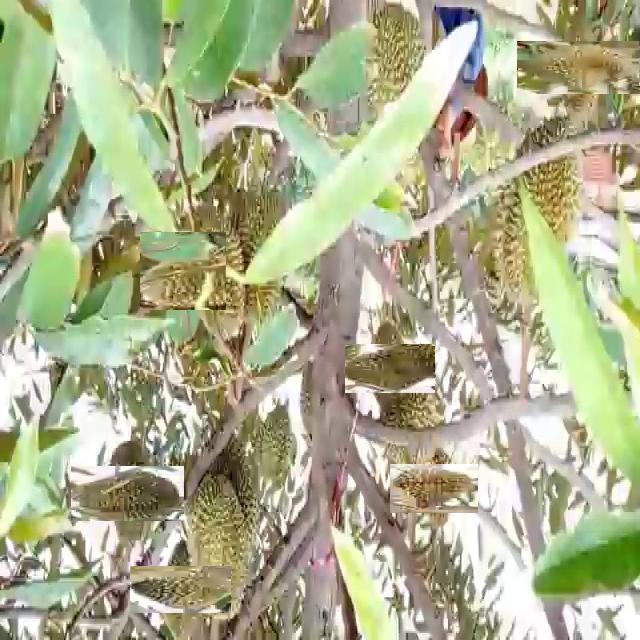durian: (492, 123, 584, 313), (155, 216, 263, 324), (225, 176, 298, 334), (358, 4, 435, 144), (186, 474, 248, 622), (197, 434, 256, 586), (376, 357, 448, 478), (534, 23, 624, 112), (85, 451, 170, 535), (143, 552, 218, 627), (355, 334, 425, 404), (399, 454, 468, 524), (254, 397, 301, 493)
